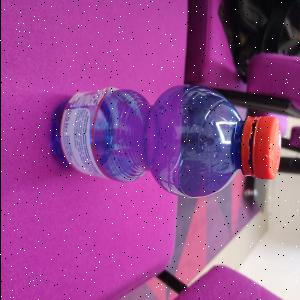Plastic-bottle: (48, 84, 282, 200)
